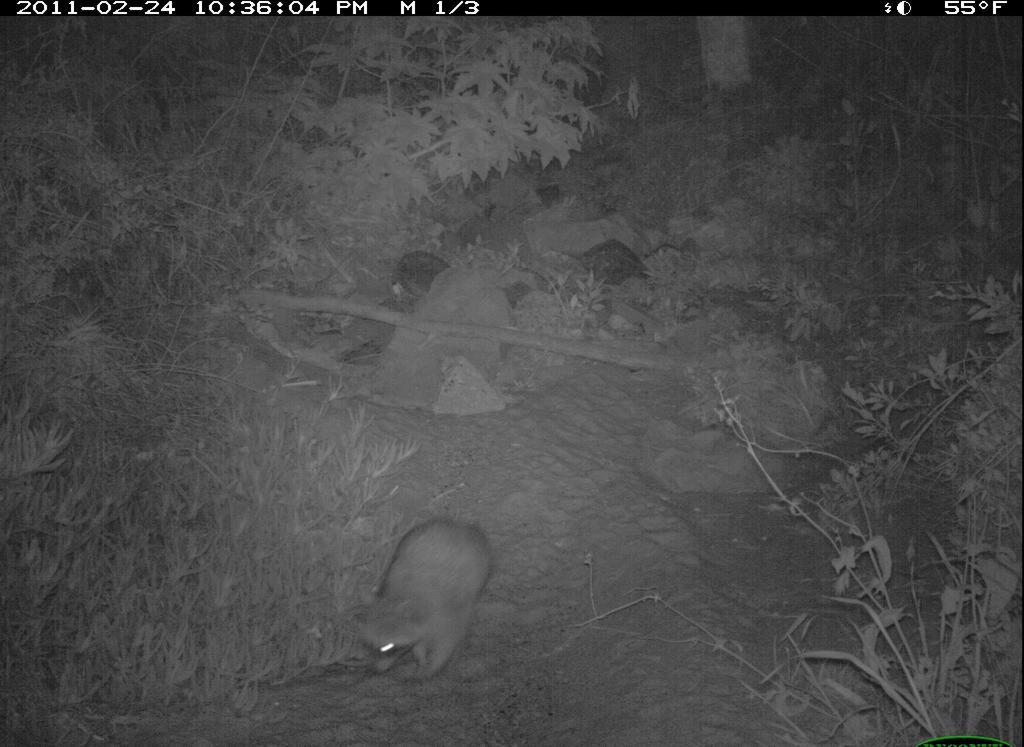raccoon: (350, 506, 500, 696)
